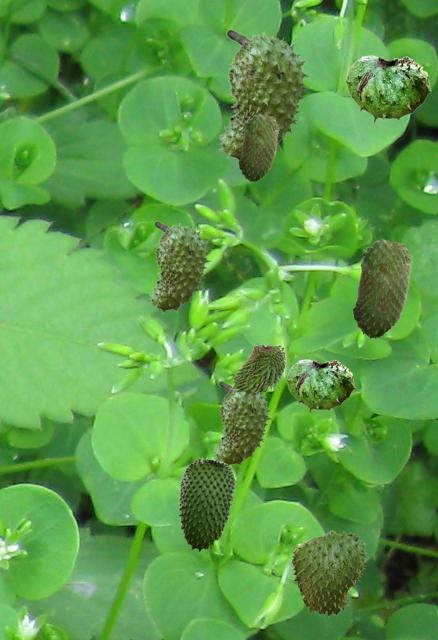guyabano: (217, 29, 311, 165), (291, 530, 367, 617), (352, 238, 411, 338), (148, 221, 211, 313), (345, 55, 430, 122), (178, 457, 234, 551), (213, 381, 272, 467), (286, 359, 354, 412), (231, 342, 285, 396), (238, 113, 278, 181)
